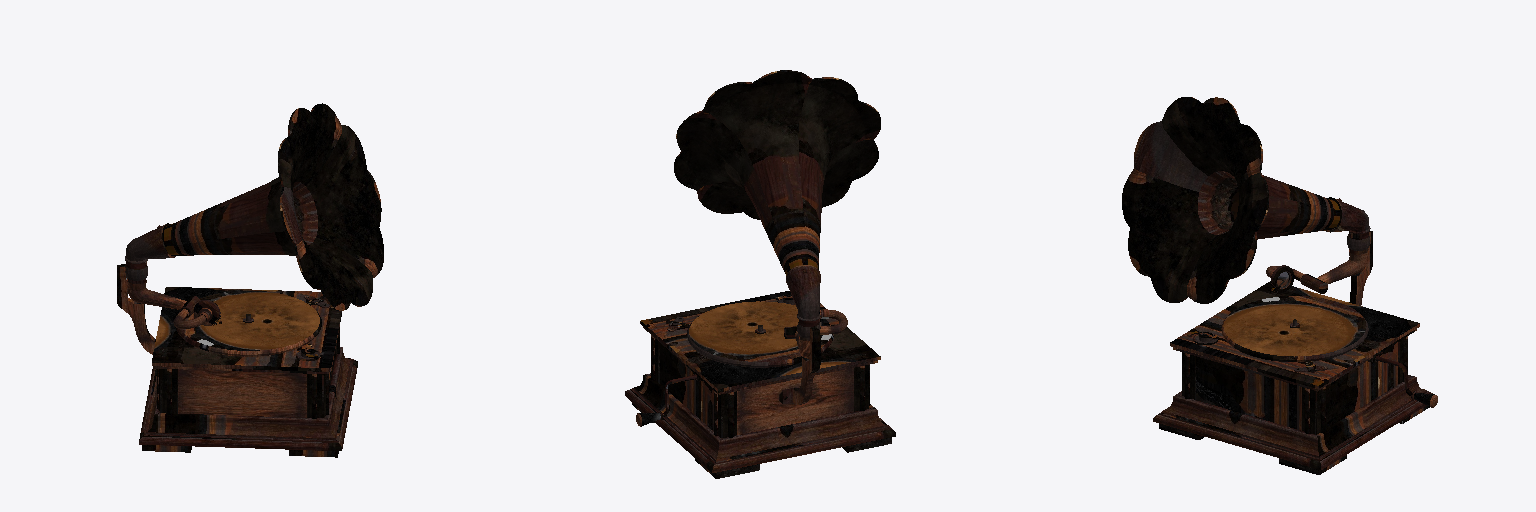
3 views of the same model, side by side, from view 1: azimuth 30°, elevation 25°; view 2: azimuth 150°, elevation 25°; view 3: azimuth 270°, elevation 25° (orthographic).
Parts seen in each view (by area): view 1: mesh0_dat_desirefx_me__obj_1; view 2: mesh0_dat_desirefx_me__obj_1; view 3: mesh0_dat_desirefx_me__obj_1.
Boxes of the visible parts, x1,y1,x2,y2 form: mesh0_dat_desirefx_me__obj_1: [117, 103, 383, 457]; mesh0_dat_desirefx_me__obj_1: [625, 70, 895, 478]; mesh0_dat_desirefx_me__obj_1: [1122, 97, 1437, 474].
Bounding box in the file's own units: 19.12 × 24.21 × 21.37.
1 materials, 1 textured.